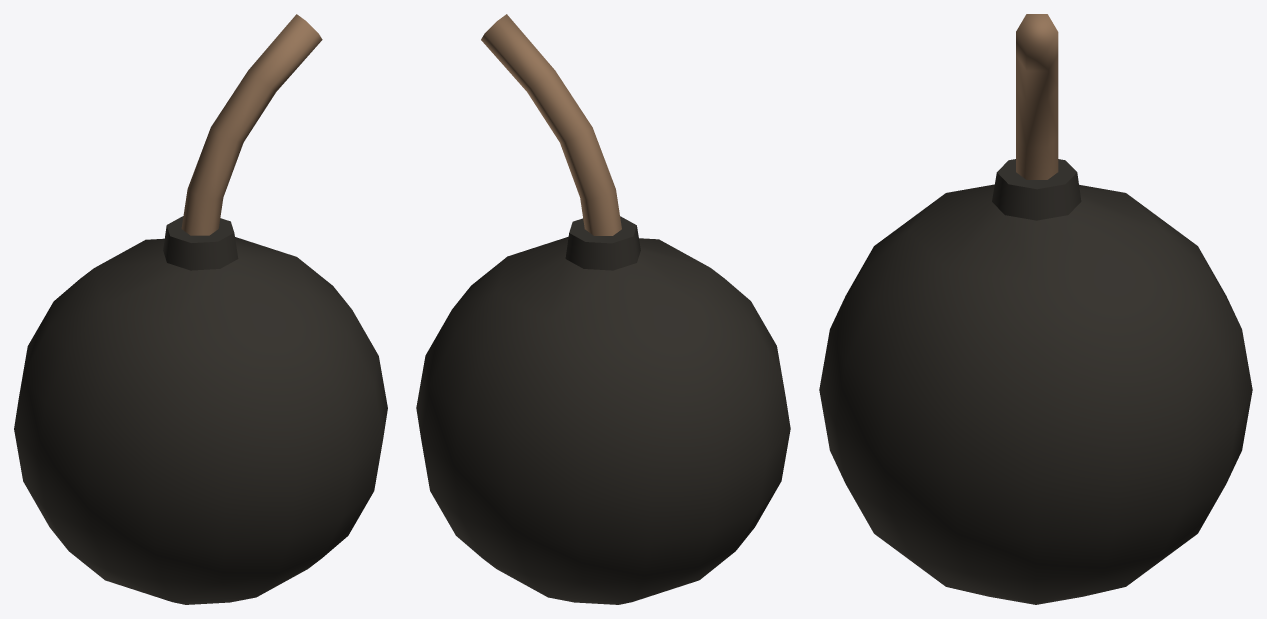
Rendered from bomb.fbx.
3 renders of one model, left to right at view 1: azimuth 30°, elevation 25°; view 2: azimuth 150°, elevation 25°; view 3: azimuth 270°, elevation 25°, orthographic. The views are drawn at different scales.
Parts seen in each view (by area): view 1: bomb; view 2: bomb; view 3: bomb.
Part boxes in pixels (<box>): bomb: <box>14,14,387,604</box>; bomb: <box>416,14,790,604</box>; bomb: <box>819,14,1252,604</box>.
Size of the model in its own units: 2 by 3.2 by 2.
